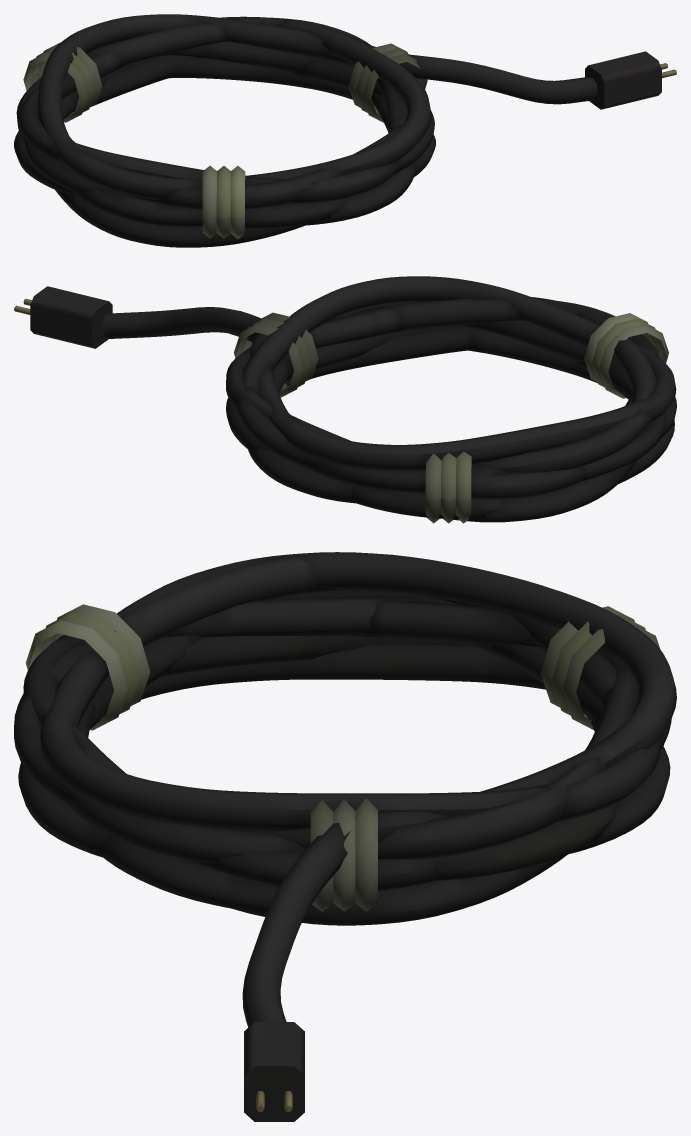
Rendered from cable_coil.glb.
3 views of the same model, one above another, from view 1: azimuth 30°, elevation 25°; view 2: azimuth 150°, elevation 25°; view 3: azimuth 270°, elevation 25° (orthographic). The views are drawn at different scales.
Visible parts, largest first — view 1: cable_coil; view 2: cable_coil; view 3: cable_coil.
Part boxes in pixels (bbox=[...]): cable_coil: bbox=[14, 14, 676, 247]; cable_coil: bbox=[14, 276, 676, 523]; cable_coil: bbox=[14, 552, 676, 1121].
Size of the model in its own units: 0.6322 by 0.0882 by 0.3795.
Materials: 1 (1 with a texture image).
